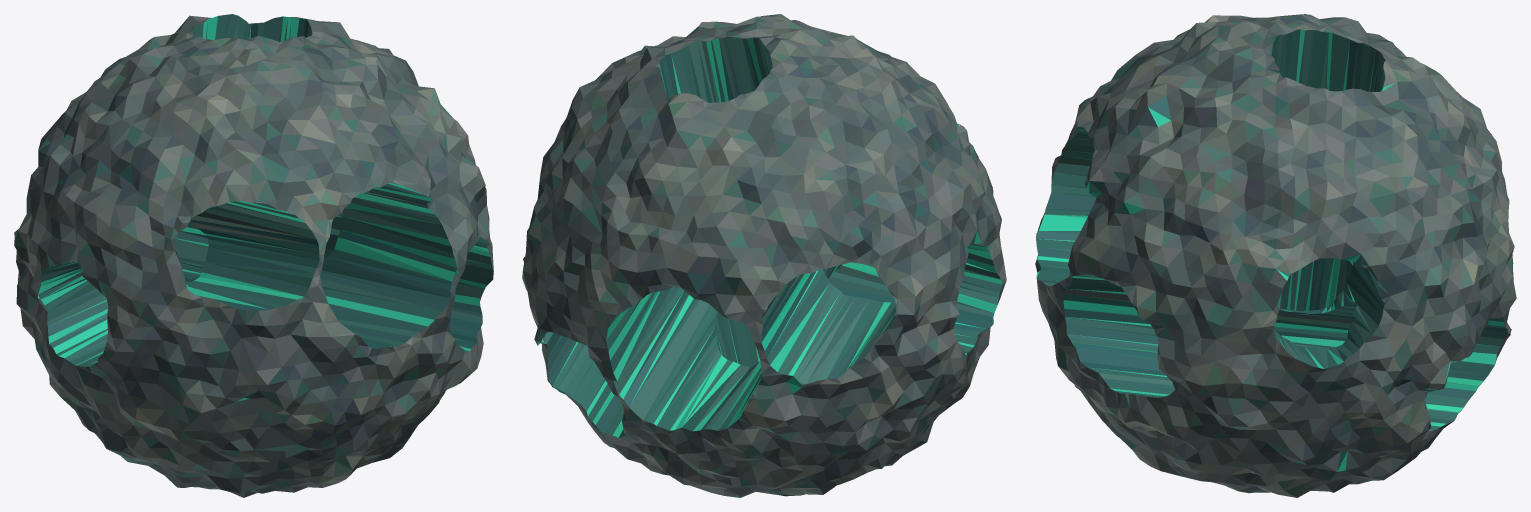
Rendered from oquedad.obj.
The picture shows the model from 3 angles, left to right: view 1: azimuth 30°, elevation 25°; view 2: azimuth 150°, elevation 25°; view 3: azimuth 270°, elevation 25°; orthographic projection.
Parts seen in each view (by area): view 1: oquedad; view 2: oquedad; view 3: oquedad.
Part boxes in pixels (box(x1,y1,x2,y2)): oquedad: box(14, 14, 493, 497); oquedad: box(522, 14, 1006, 497); oquedad: box(1035, 14, 1516, 497).
Size of the model in its own units: 2.05 by 2.05 by 2.01.
